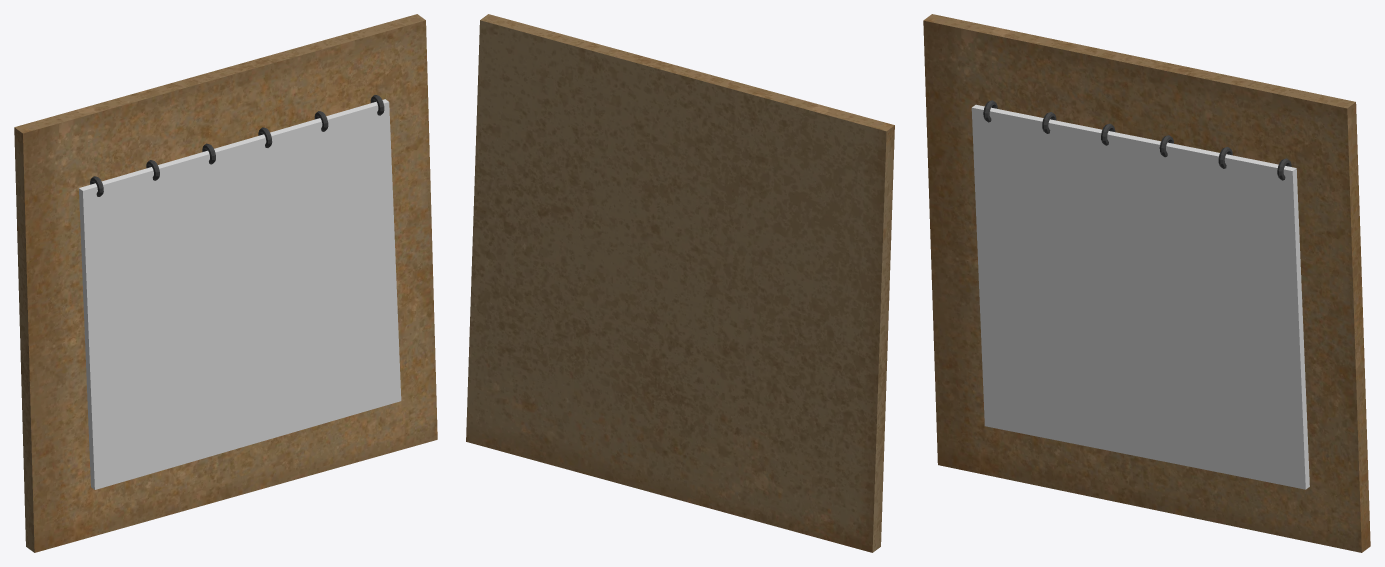
Rendered from corcho_calendario.glb.
The picture shows the model from 3 angles, left to right: view 1: azimuth 30°, elevation 25°; view 2: azimuth 150°, elevation 25°; view 3: azimuth 330°, elevation 25°; orthographic projection. The views are drawn at different scales.
Parts seen in each view (by area): view 1: Cube.031, Cube.030; view 2: Cube.030; view 3: Cube.031, Cube.030.
Part boxes in pixels (left/top/right/bottom): Cube.031: left=79, top=99, right=401, bottom=489; Cube.030: left=14, top=14, right=437, bottom=552; Cube.030: left=466, top=14, right=894, bottom=552; Cube.031: left=971, top=104, right=1309, bottom=489; Cube.030: left=923, top=14, right=1370, bottom=552.
Size of the model in its own units: 2.69 by 2.69 by 0.2371.
3 materials, 1 textured.
